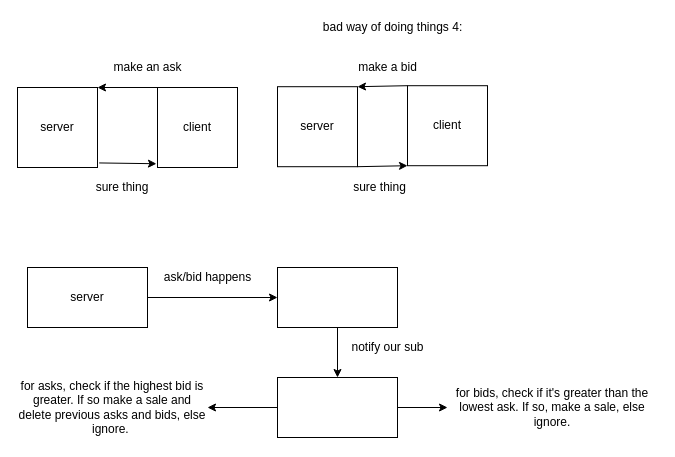
This 675x457 diagram has some shape labels left out. Here are the shapes that lost their labels. From the top down, the box of each, then its label:
(276, 266, 398, 328): redis pub
(276, 376, 398, 438): redis sub
